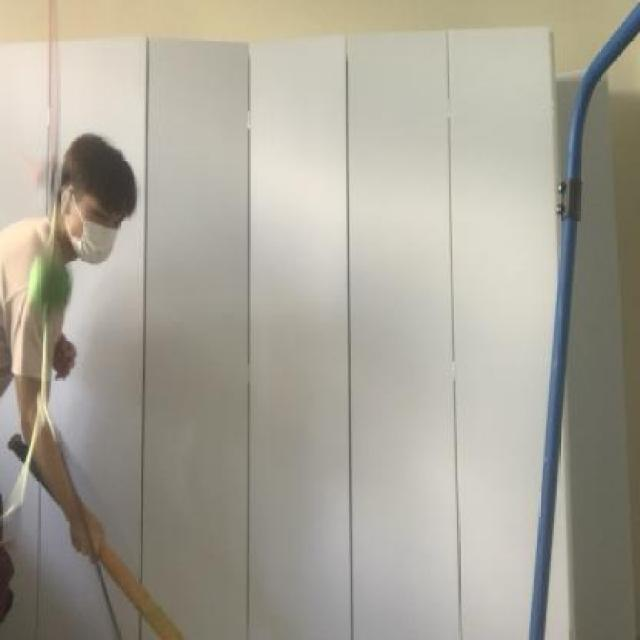baseball: (22, 255, 76, 318)
